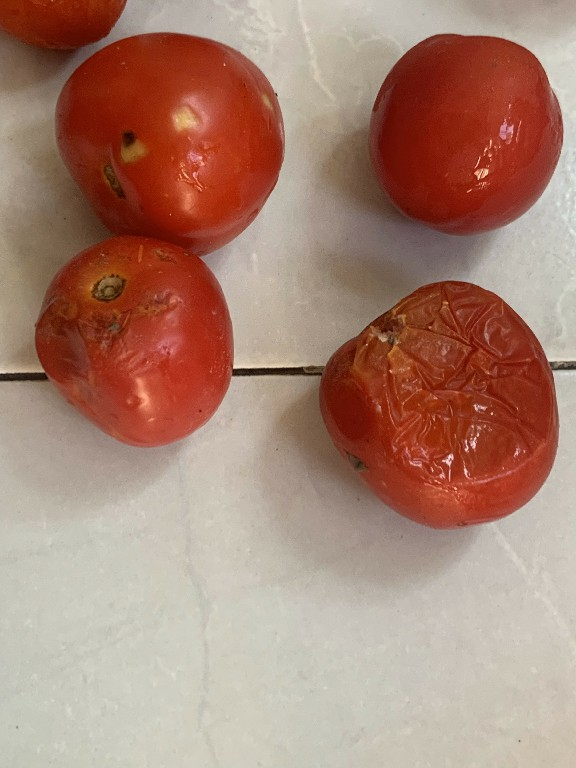NG: (284, 262, 563, 557), (33, 12, 298, 262), (10, 233, 246, 458)
OK: (364, 20, 568, 241)
